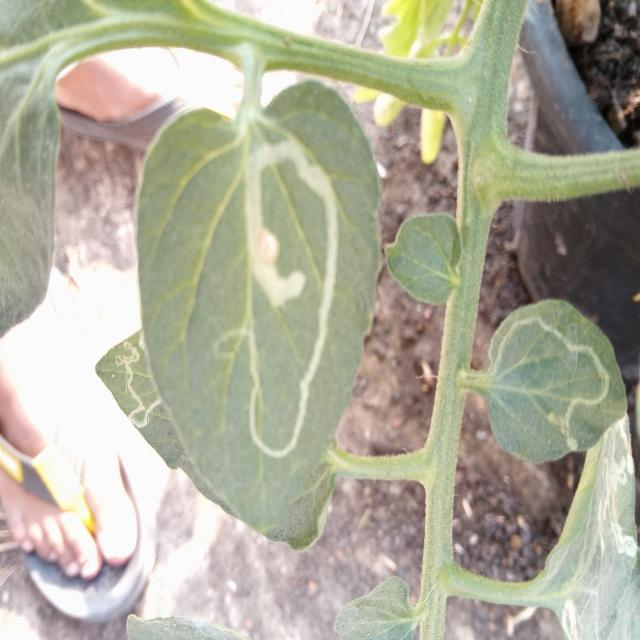Tuta absoluta: (245, 139, 344, 458), (112, 337, 166, 430)
